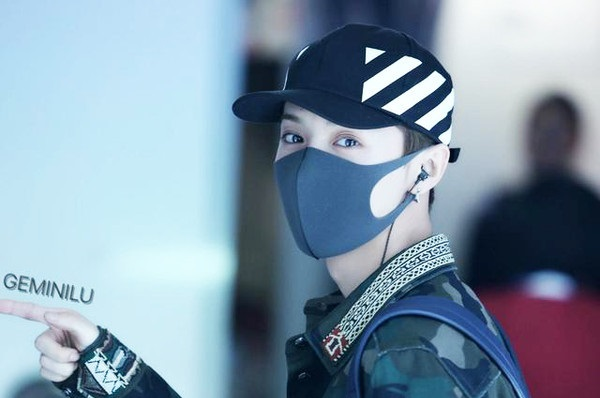face_mask: (272, 90, 398, 260)
